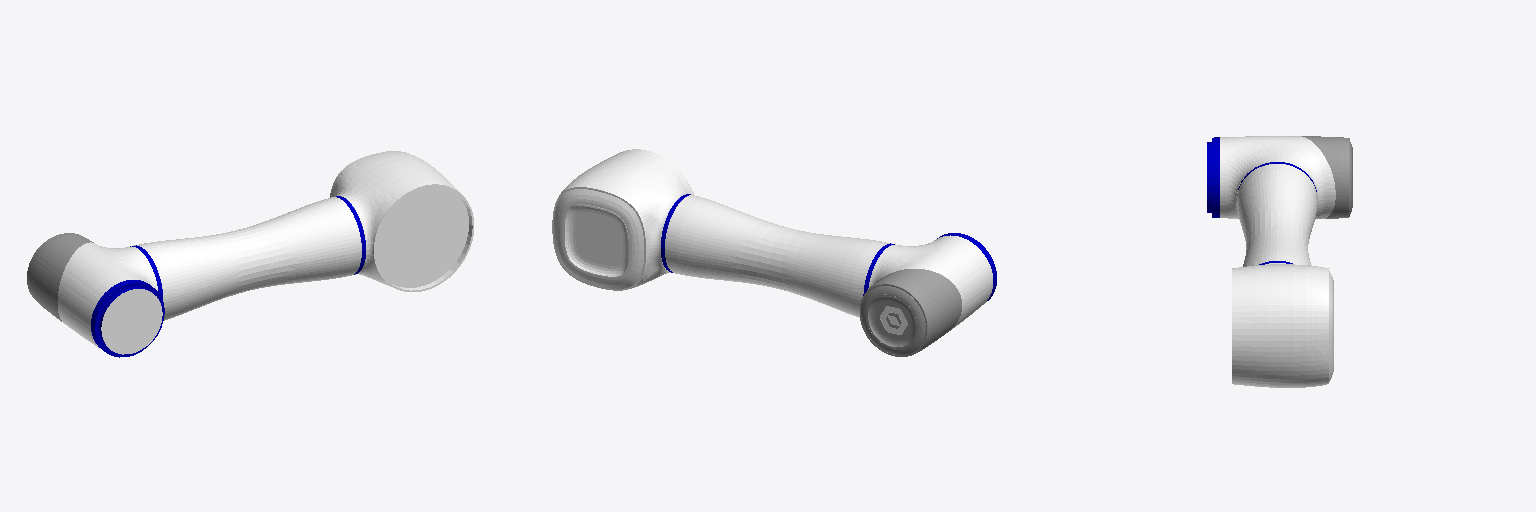
3 views of the same model, side by side, from view 1: azimuth 30°, elevation 25°; view 2: azimuth 150°, elevation 25°; view 3: azimuth 270°, elevation 25° (orthographic).
Parts seen in each view (by area): view 1: link3; view 2: link3; view 3: link3.
Part boxes in pixels (bbox=[...]): link3: bbox=[27, 151, 473, 357]; link3: bbox=[552, 149, 996, 356]; link3: bbox=[1207, 136, 1352, 387].
Size of the model in its own units: 0.4608 by 0.1228 by 0.1475.